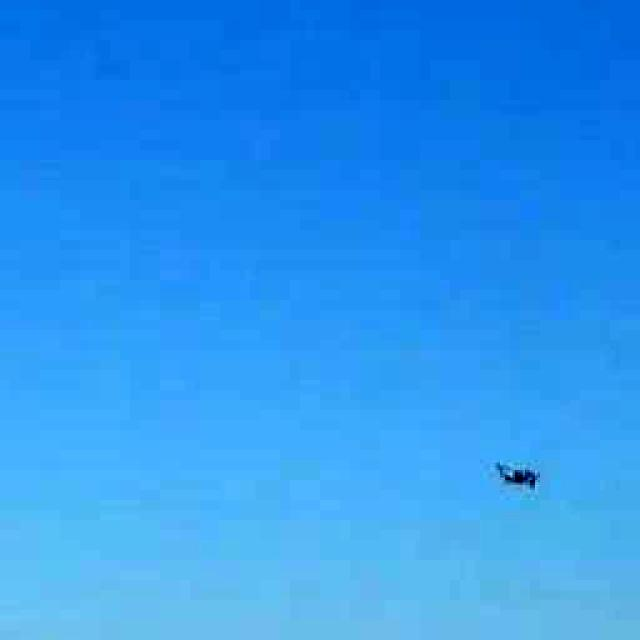bird: (481, 424, 551, 526)
